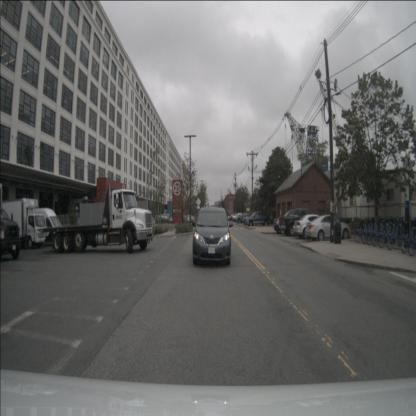vehicle-car: (190, 205, 235, 267), (0, 186, 22, 266), (22, 206, 65, 245), (305, 214, 353, 244), (293, 213, 333, 240), (273, 209, 300, 234), (243, 210, 272, 227)
vehicle-truck: (43, 183, 155, 256), (0, 197, 48, 250), (278, 207, 321, 237)
